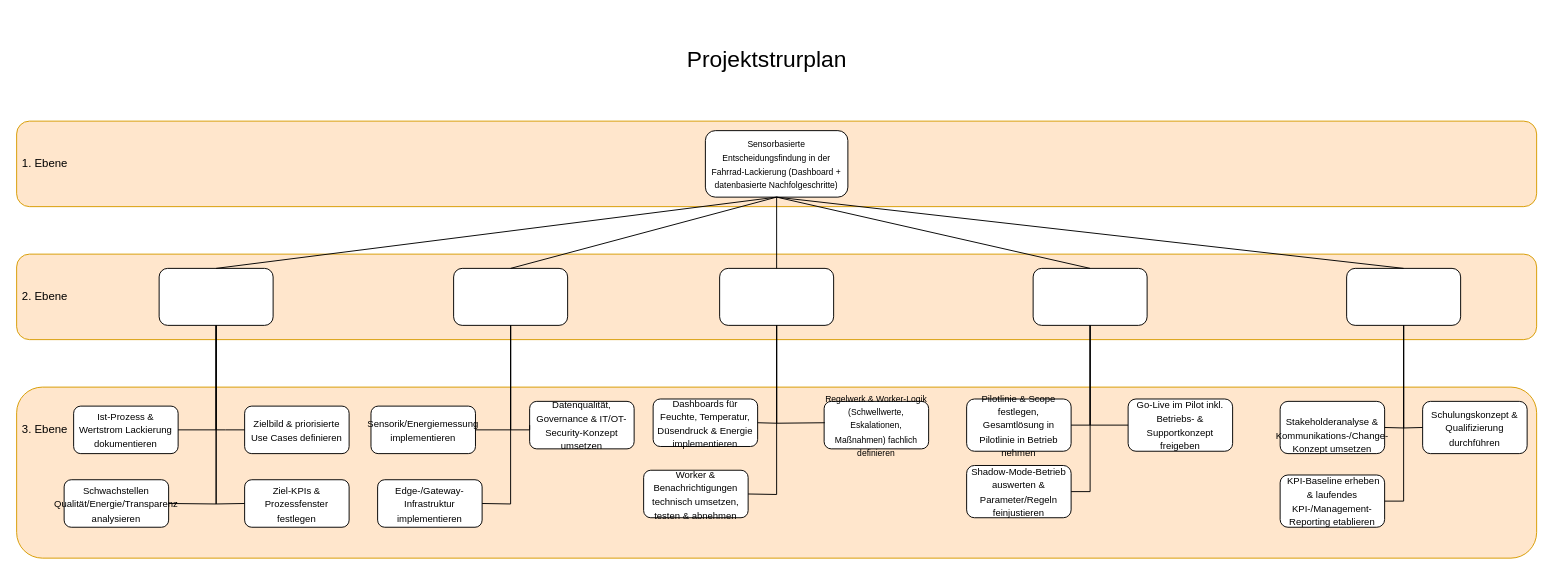
The diagram is 1553 pixels wide and 575 high, and some of its shapes have lost their labels. The shapes that lost their labels are listed below. From the top down, each one's box as (x1, y1, x2, y2) in pixels, then its label:
(158, 267, 273, 325): 1 – Prozess & Zielbild Lackierung
(453, 267, 568, 325): Sensorik und Datenplattform
(719, 267, 834, 325): Dashboard & Worker
(1032, 267, 1147, 325): Pilotierung & Rollout
(1346, 267, 1461, 325): Change, Qualifizierung, Nutzen & KVP (begleitend)
